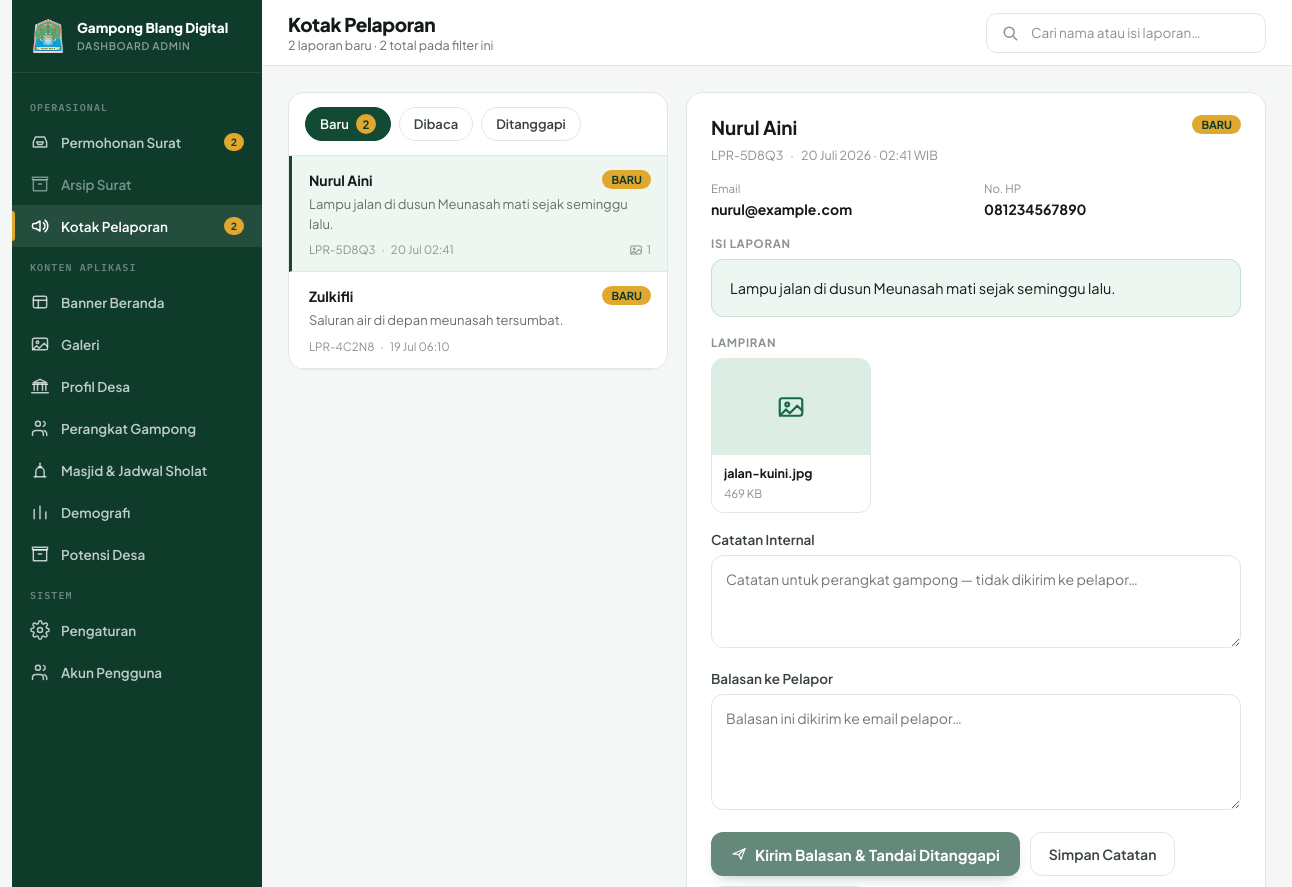
Test: feedback inbox › filters by status
Expected: the text "Nurul Aini" is shown, [309,170,373,188]
What coordinates should you click on to do the following:
click the tab "Dibaca"
I would click on:
 (436, 124)
Its box is [399,107,473,141].
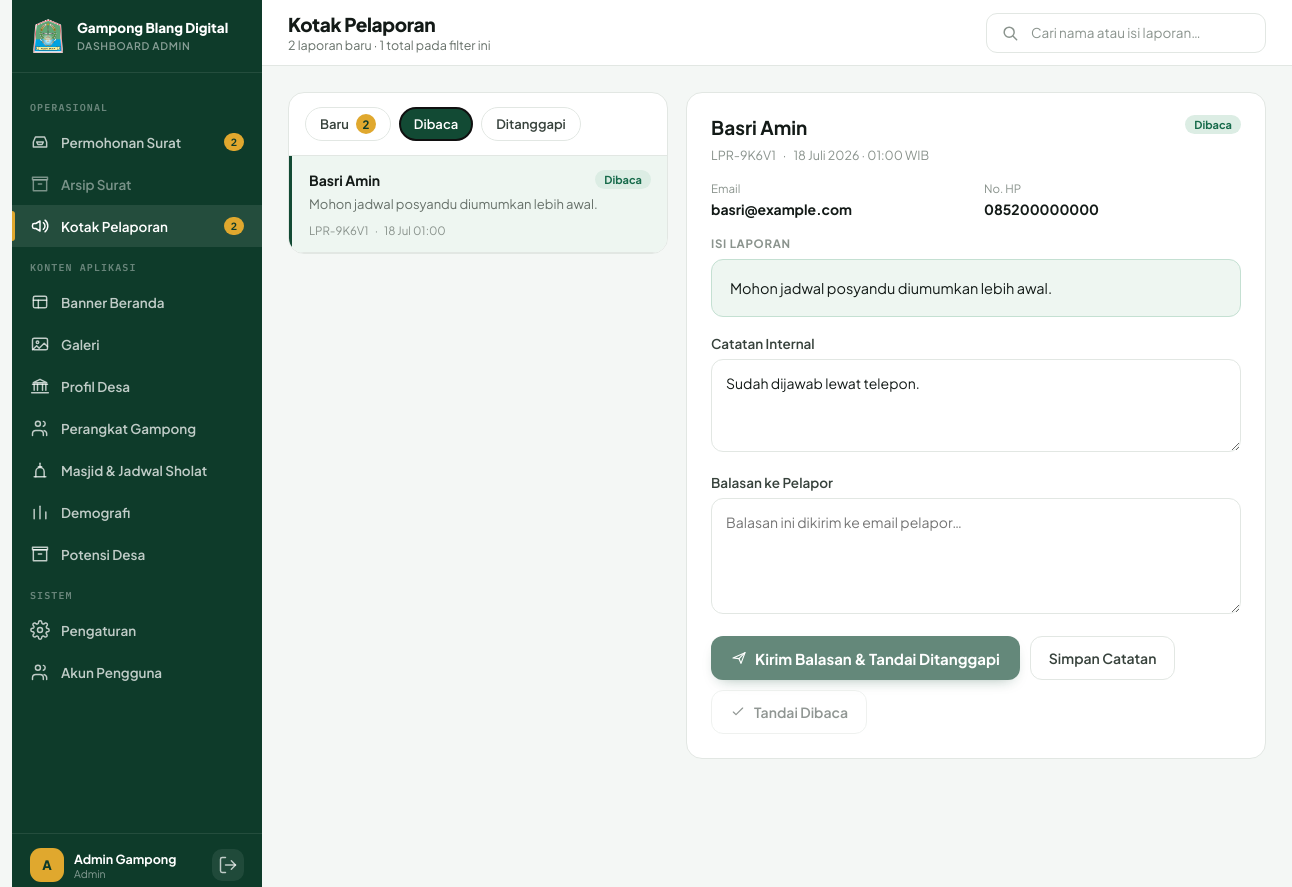
Expected: the button "Nurul Aini" is gone
Expected: the text "Basri Amin" is shown, [309,170,380,188]
